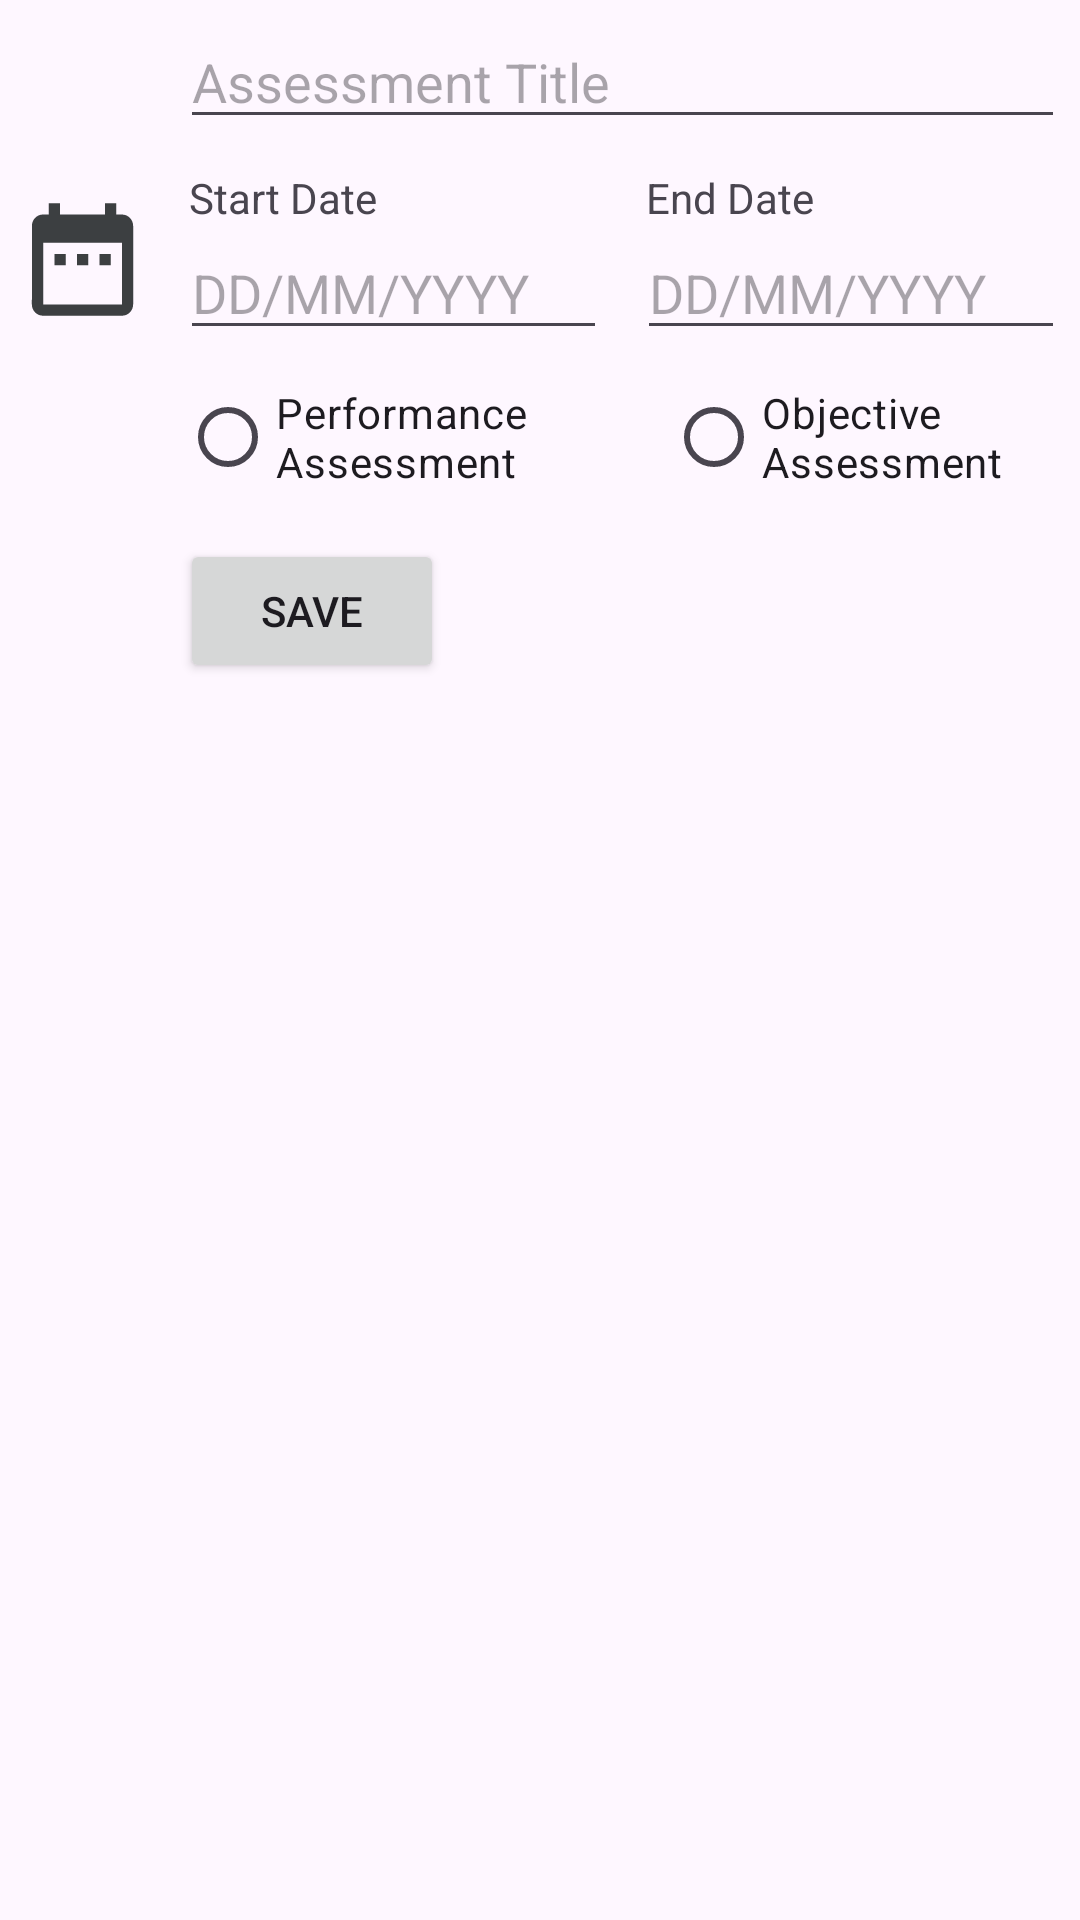

Named icons in this screenshot (1080x1920) and their centers, (x=x, y=y):
date range: (x=82, y=259)
